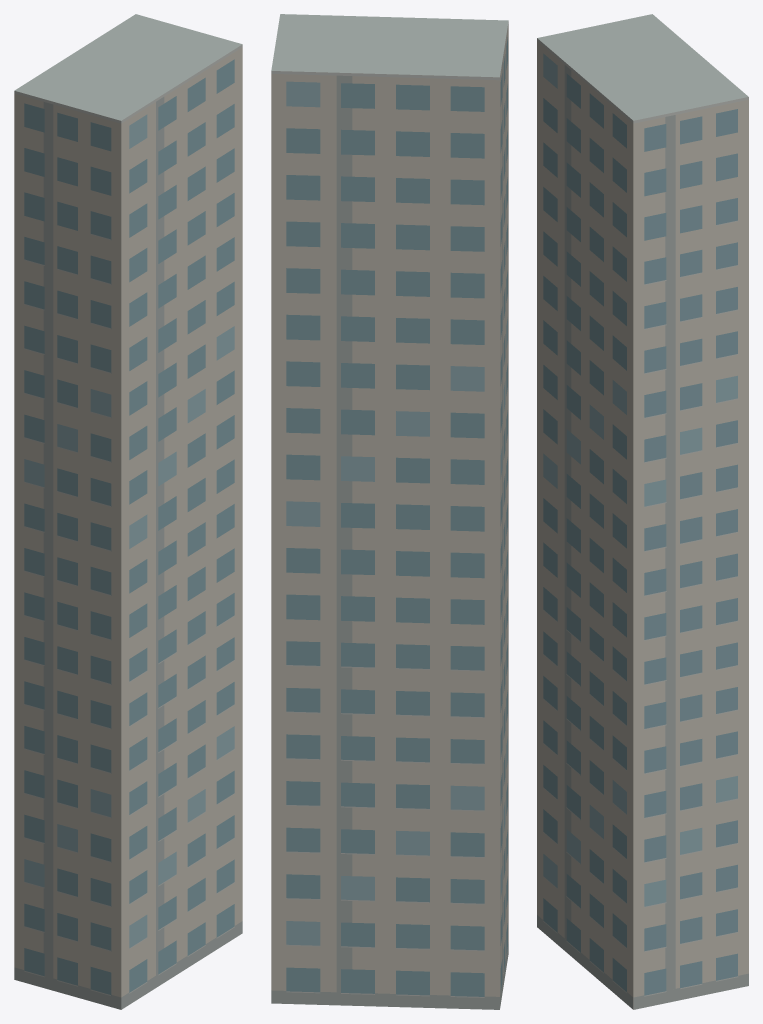
File: residential-60166a38-7cc5-46b1-acf8-c7b352eec052.glb
3 renders of one model, left to right at view 1: azimuth 30°, elevation 25°; view 2: azimuth 150°, elevation 25°; view 3: azimuth 270°, elevation 25°, orthographic. The views are drawn at different scales.
Visible parts, largest first — view 1: residential-60166a38-7cc5-46b1-acf8-c7b352eec052.tmp; view 2: residential-60166a38-7cc5-46b1-acf8-c7b352eec052.tmp; view 3: residential-60166a38-7cc5-46b1-acf8-c7b352eec052.tmp.
Boxes of the visible parts, x1,y1,x2,y2 form: residential-60166a38-7cc5-46b1-acf8-c7b352eec052.tmp: (14,14,242,1009); residential-60166a38-7cc5-46b1-acf8-c7b352eec052.tmp: (271,14,508,1009); residential-60166a38-7cc5-46b1-acf8-c7b352eec052.tmp: (537,14,748,1009).
Size of the model in its own units: 20.11 by 78 by 16.84.
